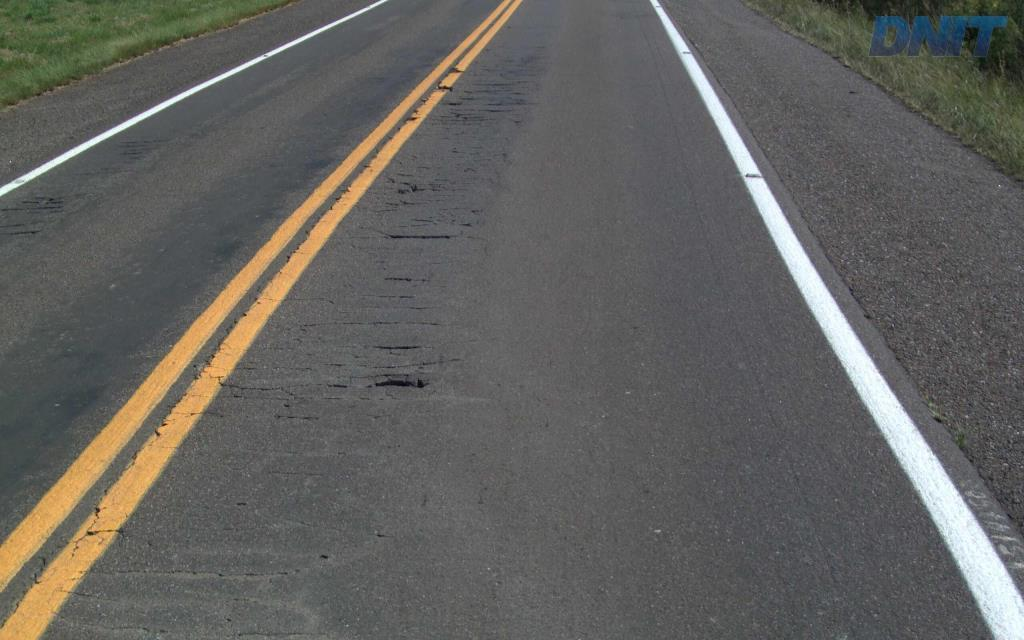crack: (363, 372, 430, 388)
